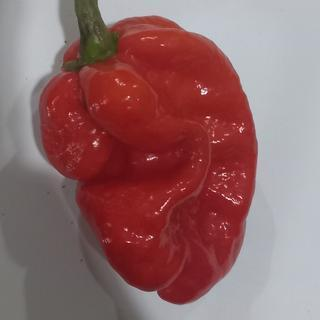Grade-A: (36, 11, 260, 307)
